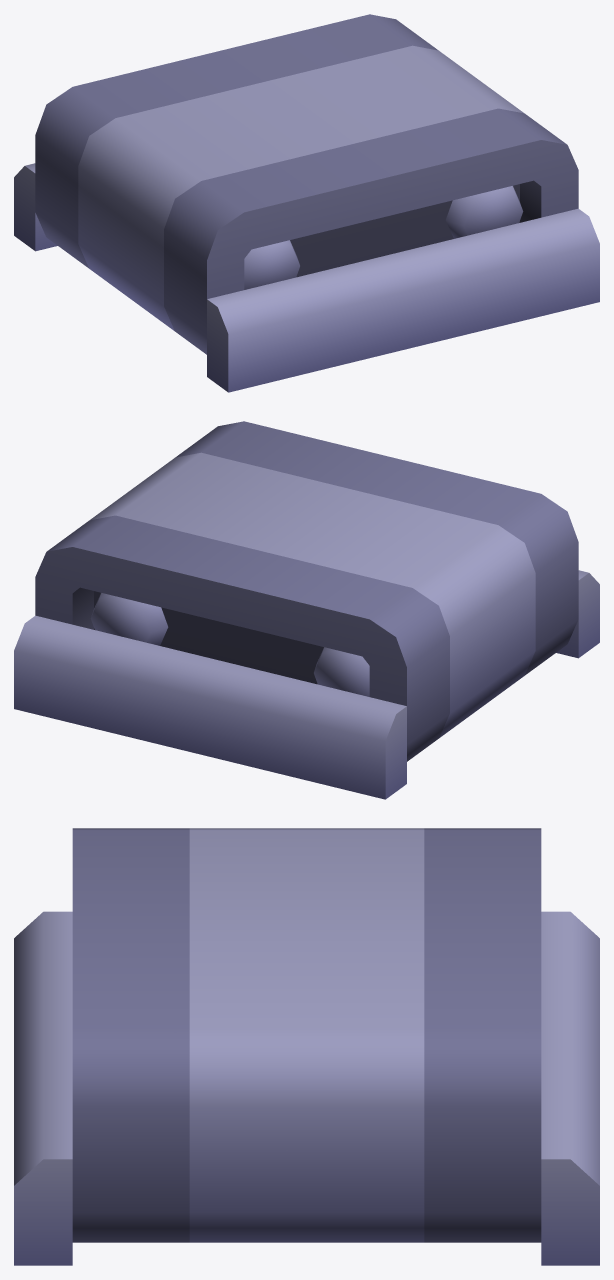
File: kenney-factory-conveyor-stripe-sides.glb
3 views of the same model, one above another, from view 1: azimuth 30°, elevation 25°; view 2: azimuth 150°, elevation 25°; view 3: azimuth 270°, elevation 25° (orthographic). The views are drawn at different scales.
Parts seen in each view (by area): view 1: conveyor-stripe-sides; view 2: conveyor-stripe-sides; view 3: conveyor-stripe-sides.
Boxes of the visible parts, x1=… form: conveyor-stripe-sides: x1=14, y1=14, x2=599, y2=392; conveyor-stripe-sides: x1=14, y1=421, x2=599, y2=799; conveyor-stripe-sides: x1=14, y1=828, x2=599, y2=1265.
Bounding box in the file's own units: 1.5 × 0.6 × 1.5.
1 material, 1 textured.
